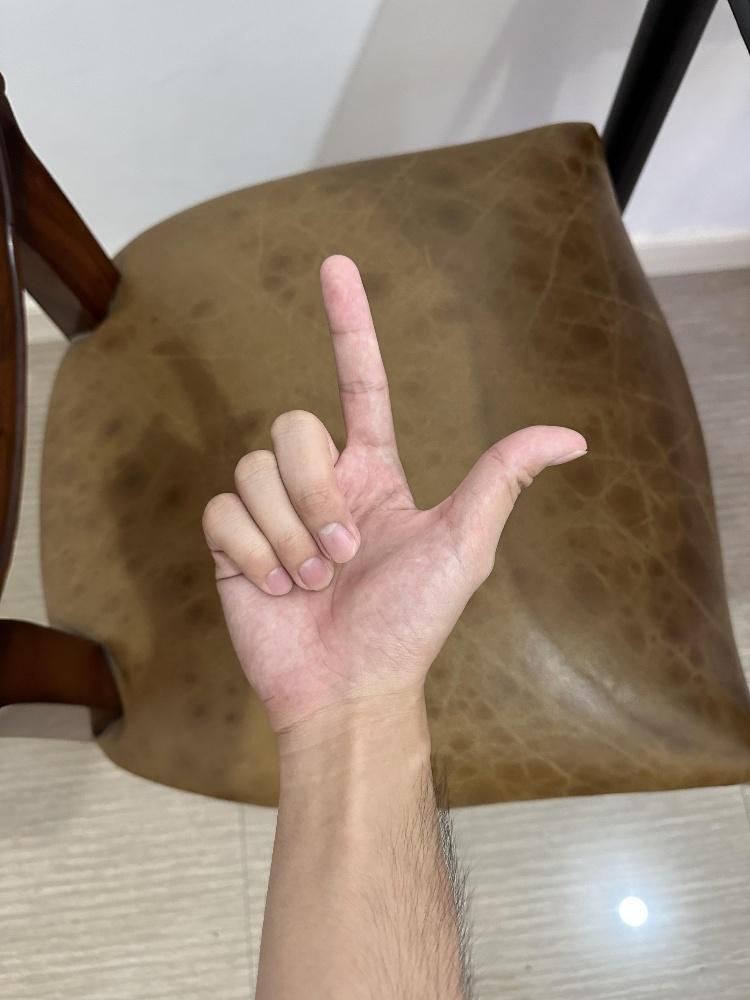l: (197, 248, 590, 723)
